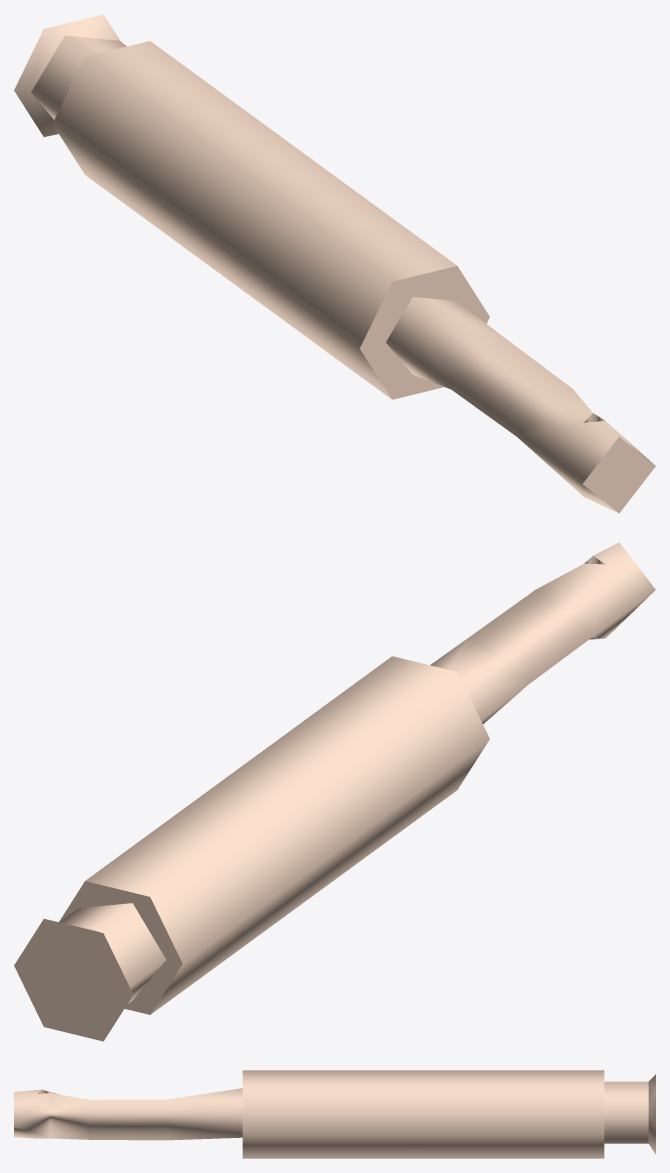
Rendered from Pied roue intermediaire quantieme - axe.obj.
3 renders of one model, top to bottom at view 1: azimuth 30°, elevation 25°; view 2: azimuth 150°, elevation 25°; view 3: azimuth 270°, elevation 25°, orthographic. The views are drawn at different scales.
Visible parts, largest first — view 1: Face_4, Face_2, Face_3, Face_8, Face_1, Face_6; view 2: Face_4, Face_2, Face_9, Face_6, Face_5; view 3: Face_4, Face_2, Face_6, Face_8.
Part boxes in pixels (x1=…): Face_4: x1=52, y1=41, x2=456, y2=399; Face_2: x1=386, y1=297, x2=652, y2=512; Face_3: x1=360, y1=266, x2=489, y2=399; Face_8: x1=14, y1=14, x2=120, y2=136; Face_1: x1=583, y1=437, x2=655, y2=513; Face_6: x1=31, y1=35, x2=126, y2=119; Face_4: x1=85, y1=656, x2=489, y2=1014; Face_2: x1=430, y1=542, x2=655, y2=723; Face_9: x1=14, y1=919, x2=133, y2=1041; Face_6: x1=59, y1=903, x2=166, y2=1003; Face_5: x1=59, y1=881, x2=182, y2=1014; Face_4: x1=242, y1=1070, x2=604, y2=1158; Face_2: x1=14, y1=1088, x2=242, y2=1140; Face_6: x1=604, y1=1081, x2=648, y2=1143; Face_8: x1=648, y1=1074, x2=655, y2=1154.
Size of the model in its own units: 0.006 by 0.0052 by 0.0435.
